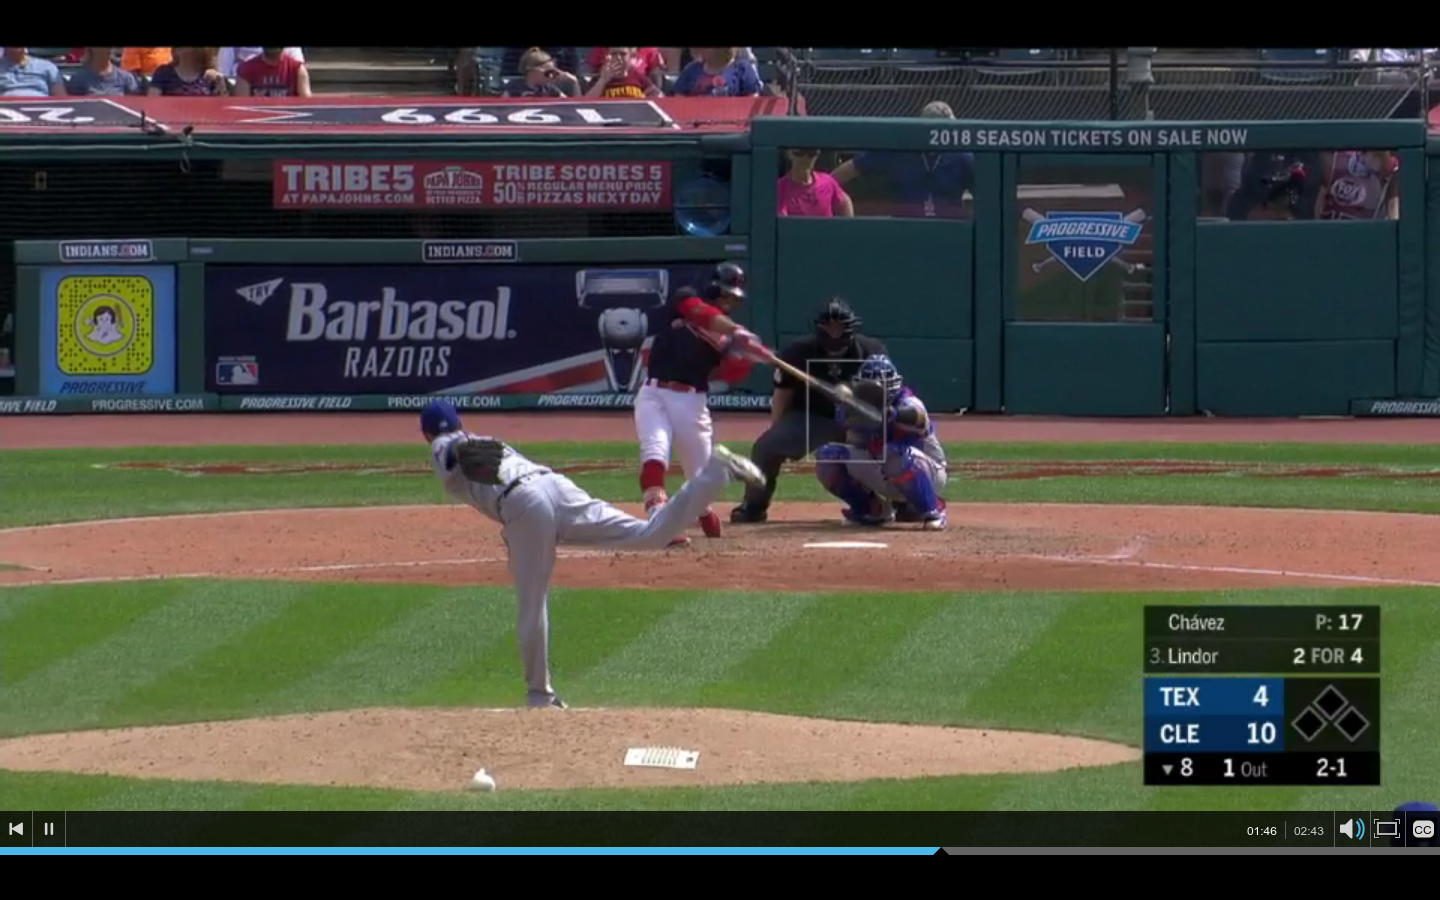baseball: (833, 383, 858, 406)
baseball bat: (747, 334, 856, 408)
baseball player: (415, 399, 767, 712), (632, 260, 761, 549), (810, 352, 950, 529)
